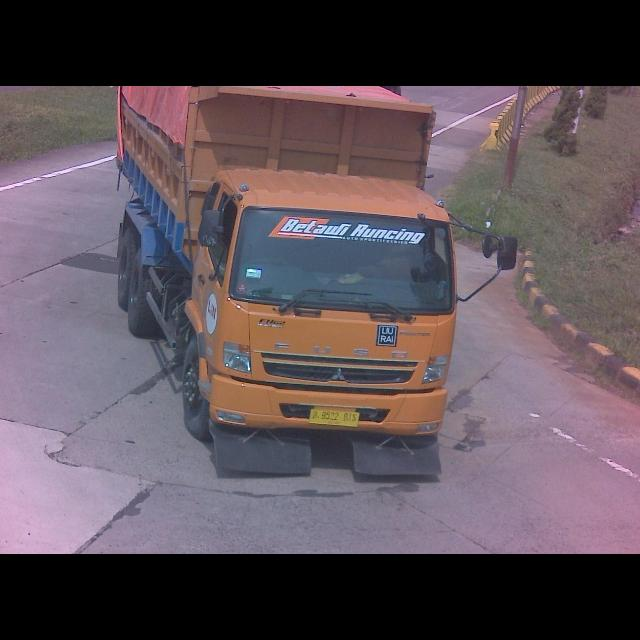plate: (308, 408, 362, 430)
